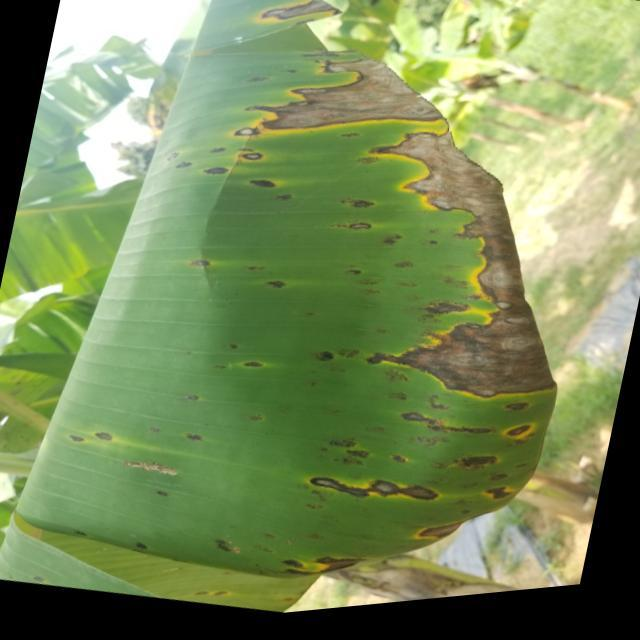Early_rust: (60, 0, 550, 579)
